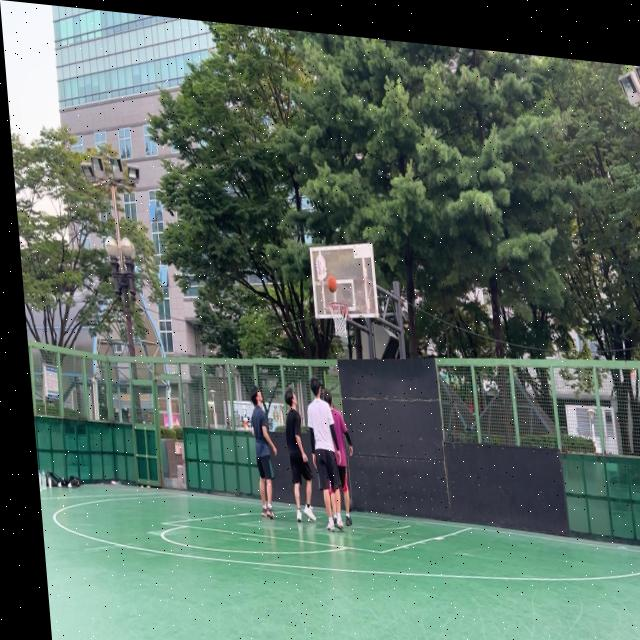basketball: (327, 275, 337, 294), (348, 497, 354, 512)
hoop: (327, 300, 351, 338)
